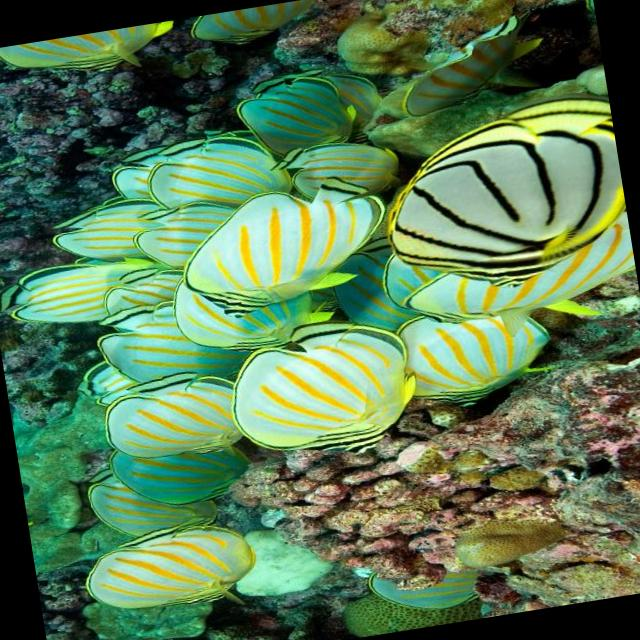ButterflyFish: (382, 65, 640, 355), (388, 198, 631, 349), (170, 178, 400, 330), (248, 306, 423, 478), (378, 0, 572, 127), (68, 512, 260, 632), (390, 290, 568, 418), (226, 17, 380, 157), (164, 248, 334, 362), (90, 294, 234, 411), (130, 118, 274, 235), (97, 408, 257, 510), (69, 448, 226, 550), (96, 370, 245, 468), (0, 19, 181, 92), (0, 253, 133, 349), (262, 126, 404, 206), (363, 536, 485, 622), (52, 178, 159, 272), (184, 0, 351, 50), (55, 341, 134, 422)
